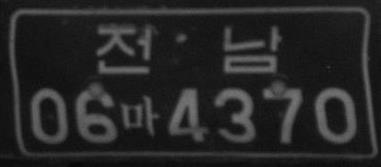0: (312, 86, 358, 145), (29, 86, 68, 144)
3: (213, 86, 257, 145)
4: (166, 87, 210, 143)
6: (75, 85, 119, 145)
7: (260, 85, 303, 145)
마: (120, 94, 159, 136)
전남_D: (96, 24, 283, 76)
